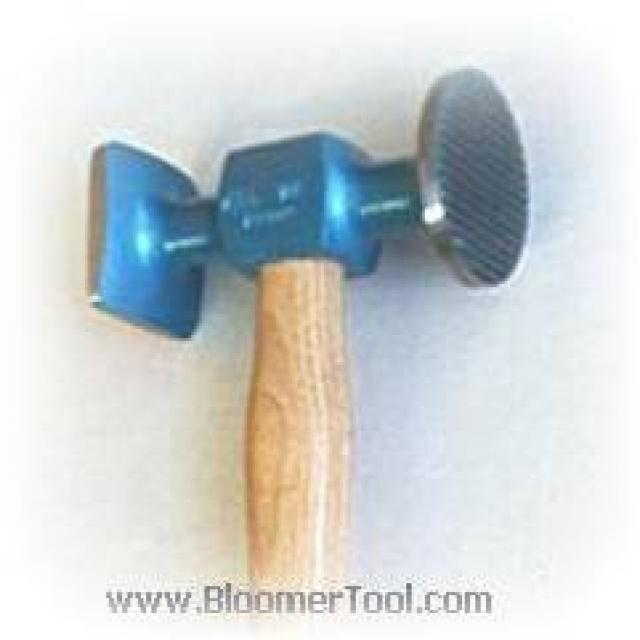hammer: (77, 58, 536, 586)
